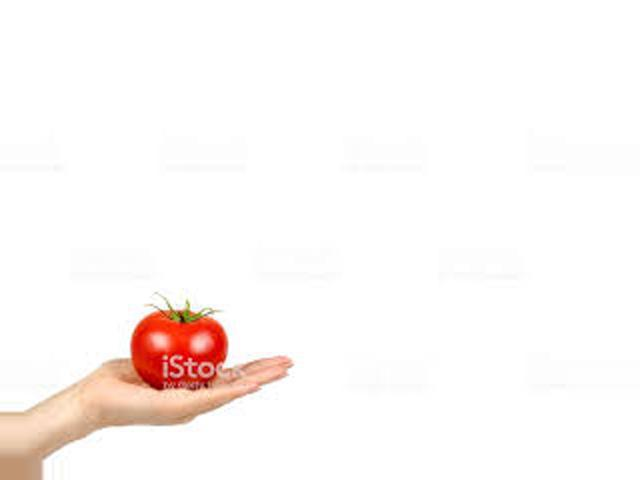tomato: (130, 308, 226, 388)
